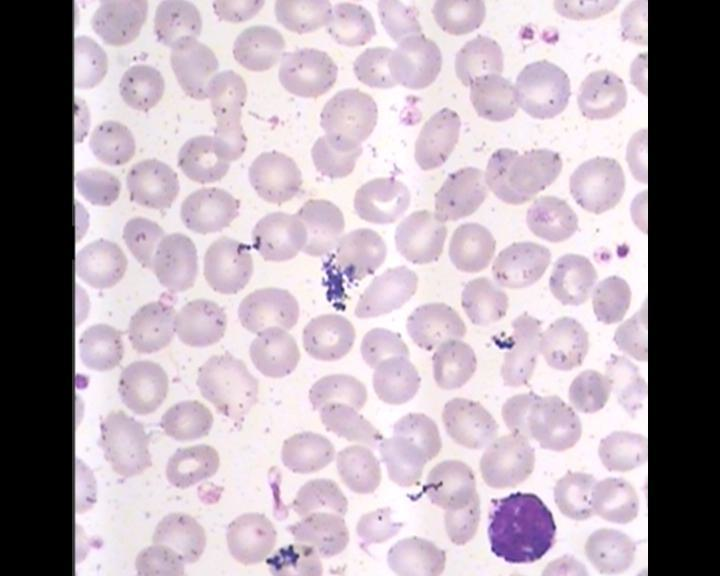baso: (479, 485, 557, 565)
